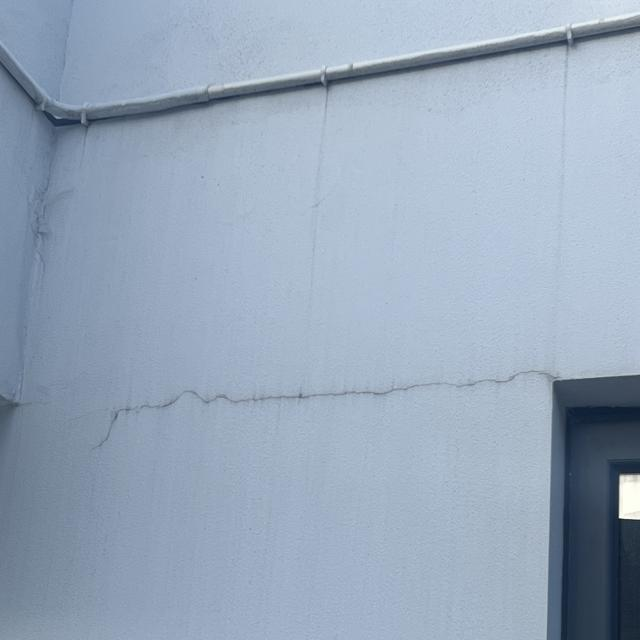crack: (85, 340, 559, 455)
